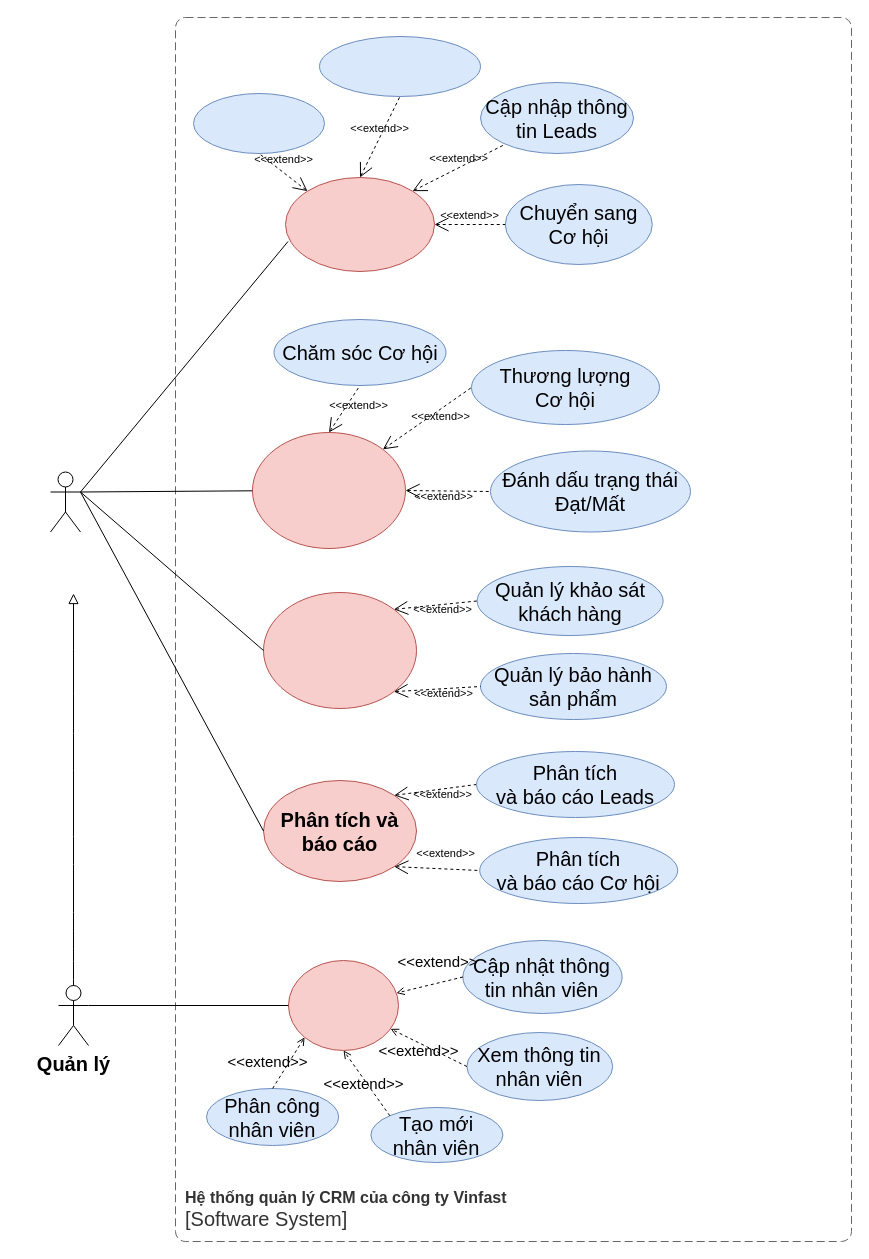
Some shapes in this 869 by 1259 pixel diagram are drawn without their labels. Here are the shapes that lost their labels. From the top down, the box of each, then its label:
(318, 36, 480, 96): Xem thông tin Leads
(192, 92, 324, 154): Tạo mới Leads
(284, 176, 434, 272): Quản lý Leads
(50, 471, 80, 532): Nhân viên CRM
(252, 432, 406, 548): Quản lý Cơ hội
(262, 592, 416, 708): Quản lý dịch vụ sau bán hàng
(288, 960, 398, 1050): Quản lý nhân viên
